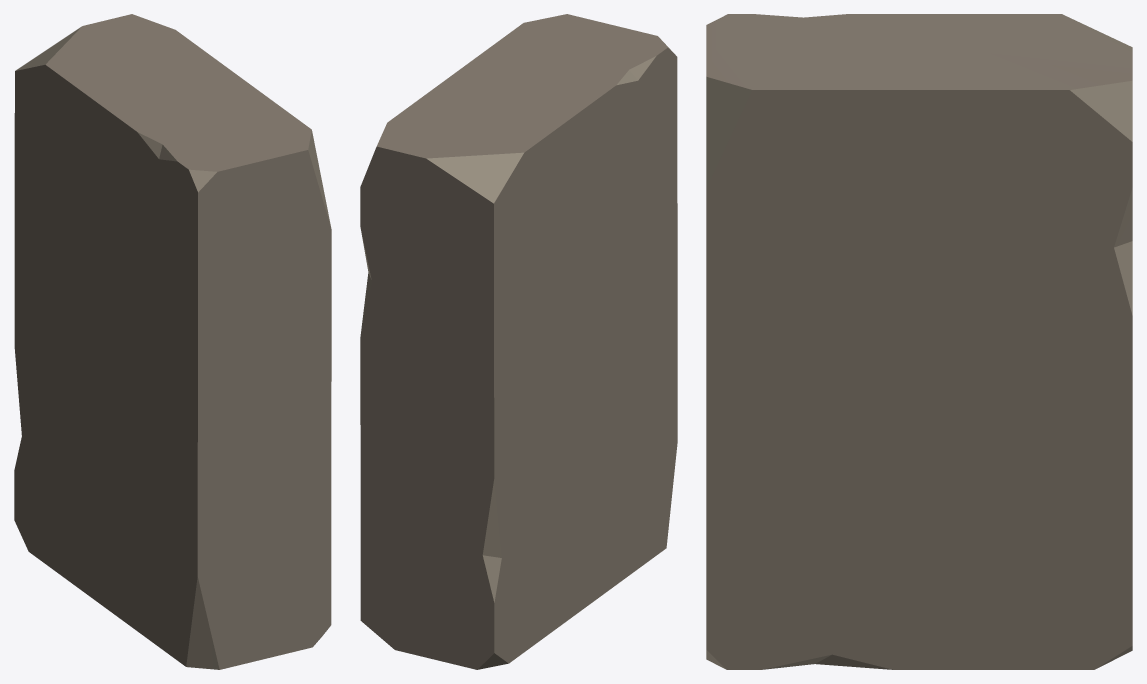
File: gray brick.fbx
The picture shows the model from 3 angles, left to right: view 1: azimuth 30°, elevation 25°; view 2: azimuth 150°, elevation 25°; view 3: azimuth 270°, elevation 25°; orthographic projection. The views are drawn at different scales.
Visible parts, largest first — view 1: SM_Prop_Concrete_Slab_Pile_02; view 2: SM_Prop_Concrete_Slab_Pile_02; view 3: SM_Prop_Concrete_Slab_Pile_02.
Boxes of the visible parts, bbox=[...] form: SM_Prop_Concrete_Slab_Pile_02: bbox=[14, 14, 331, 669]; SM_Prop_Concrete_Slab_Pile_02: bbox=[360, 14, 677, 669]; SM_Prop_Concrete_Slab_Pile_02: bbox=[706, 14, 1132, 669].
Bounding box in the file's own units: 42.27 × 150 × 99.92.
1 material, 1 textured.
